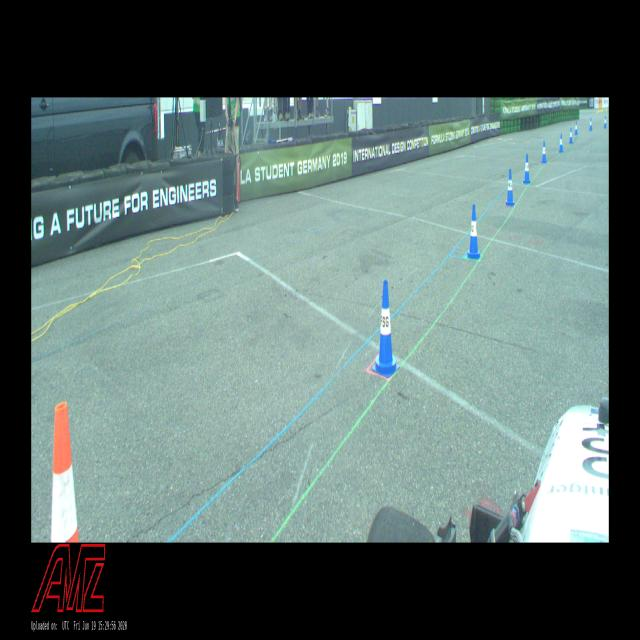blue_cone: (372, 280, 399, 376), (467, 205, 480, 259), (506, 169, 515, 205), (523, 154, 531, 183), (542, 141, 546, 163), (559, 134, 563, 152), (569, 128, 573, 144), (575, 122, 578, 134), (590, 118, 592, 130), (604, 116, 606, 128)
orange_cone: (50, 402, 80, 541)
yellow_cone: (596, 107, 598, 114), (600, 106, 602, 112), (598, 107, 600, 112), (602, 107, 602, 111)
